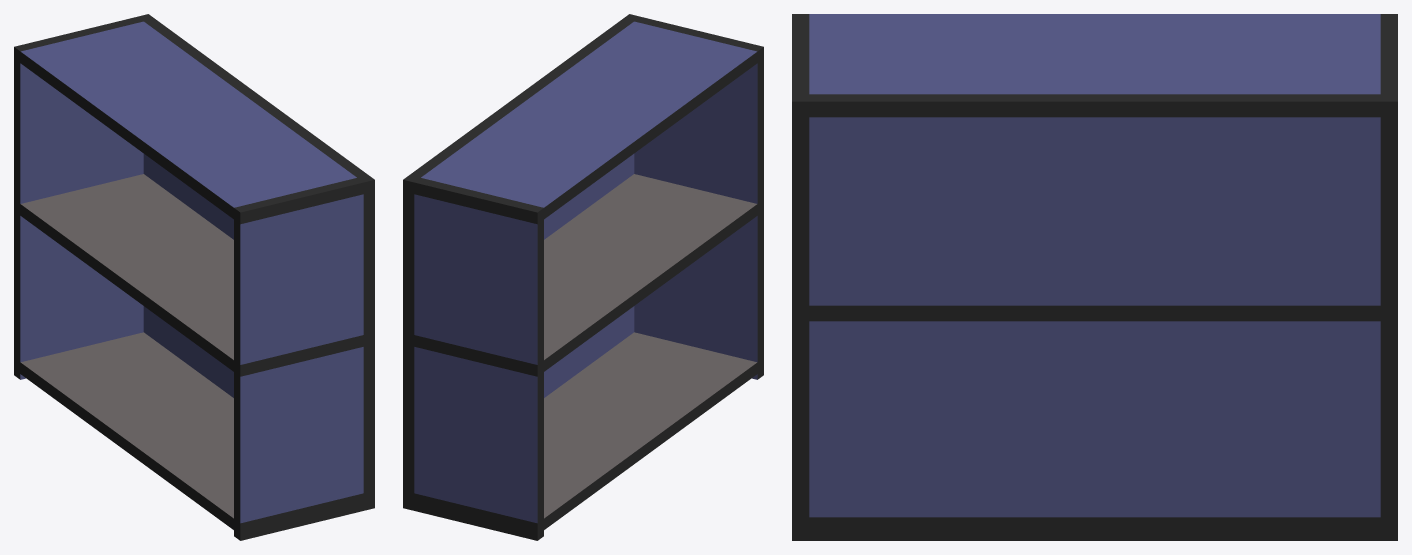
Rendered from Rack01.fbx.
The picture shows the model from 3 angles, left to right: view 1: azimuth 30°, elevation 25°; view 2: azimuth 150°, elevation 25°; view 3: azimuth 270°, elevation 25°; orthographic projection. The views are drawn at different scales.
Visible parts, largest first — view 1: Cube.003; view 2: Cube.003; view 3: Cube.003.
Part boxes in pixels (x1=…): Cube.003: x1=14, y1=14, x2=374, y2=540; Cube.003: x1=403, y1=14, x2=763, y2=540; Cube.003: x1=792, y1=14, x2=1397, y2=540.
Bounding box in the file's own units: 240 × 560 × 700.
